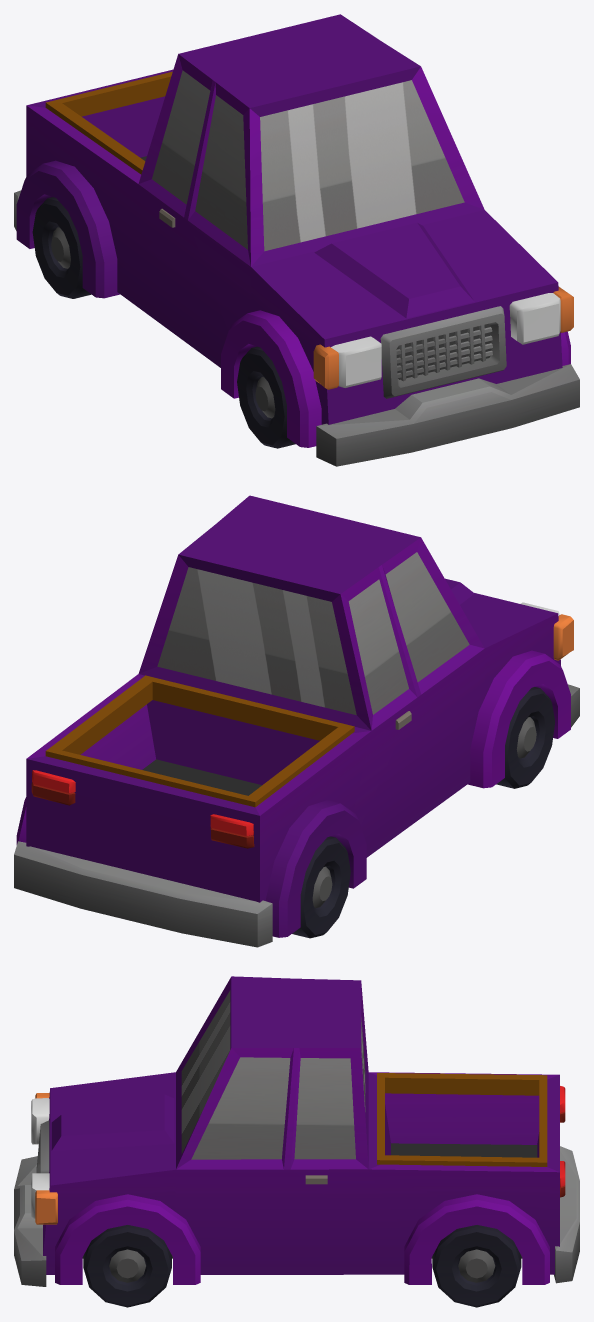
File: PickUp_8.glb
3 renders of one model, top to bottom at view 1: azimuth 30°, elevation 25°; view 2: azimuth 150°, elevation 25°; view 3: azimuth 270°, elevation 25°, orthographic. The views are drawn at different scales.
Visible parts, largest first — view 1: PickUp_8, BWhel_BR, BWhel_FR; view 2: PickUp_8, BWhel_BR, BWhel_FR; view 3: PickUp_8, BWhel_BL, BWhel_FL.
Part boxes in pixels (x1,y1,x2,y2): PickUp_8: [14, 14, 579, 466]; BWhel_BR: [32, 197, 91, 298]; BWhel_FR: [237, 346, 295, 448]; PickUp_8: [14, 495, 579, 947]; BWhel_BR: [292, 836, 350, 938]; BWhel_FR: [496, 687, 554, 788]; PickUp_8: [14, 976, 579, 1286]; BWhel_BL: [432, 1225, 521, 1307]; BWhel_FL: [83, 1225, 171, 1307].
Bounding box in the file's own units: 1.09 × 1.08 × 2.3.
Materials: 6 (6 with a texture image).
